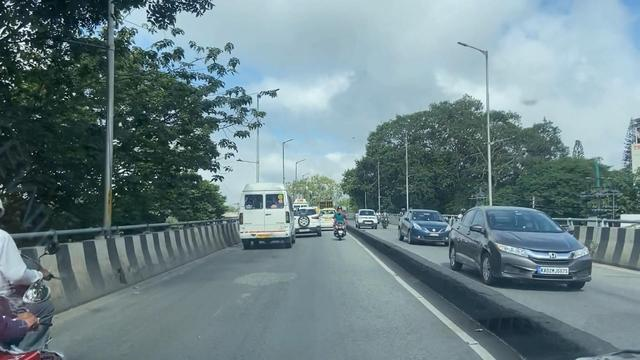HMV: (243, 184, 294, 247)
LMV: (334, 206, 345, 241)
RoadDamages: (235, 270, 298, 288)
